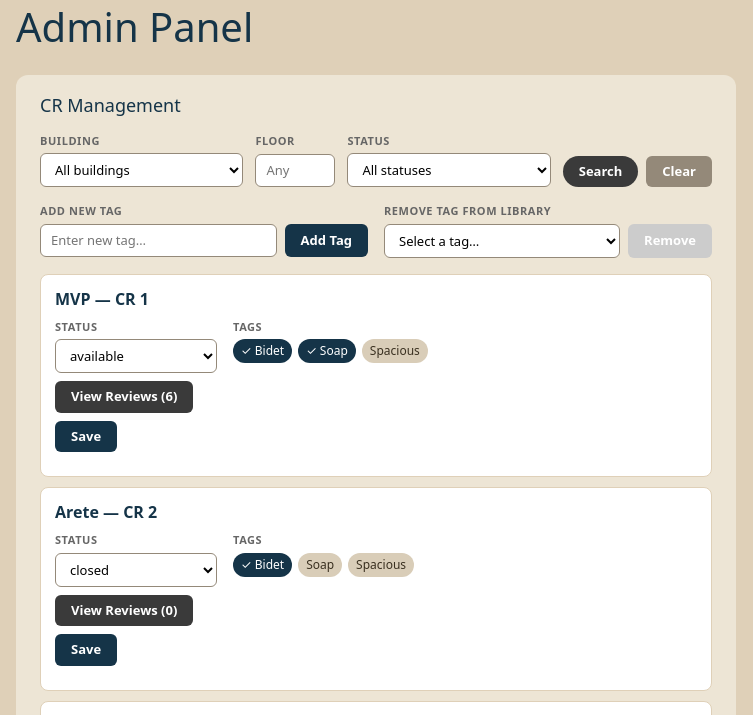
Test: CR Management — View Reviews › navigating to review page 2 shows the remaining review and hides page-1 reviews
expect the text "MVP — CR 1" is shown: met, box left=55, top=288, right=149, bottom=310
What coordinates should you click on to do the following:
click the button "View Reviews (6)"
I would click on:
 (124, 397)
Its box is left=55, top=381, right=193, bottom=413.
(page scrolled)
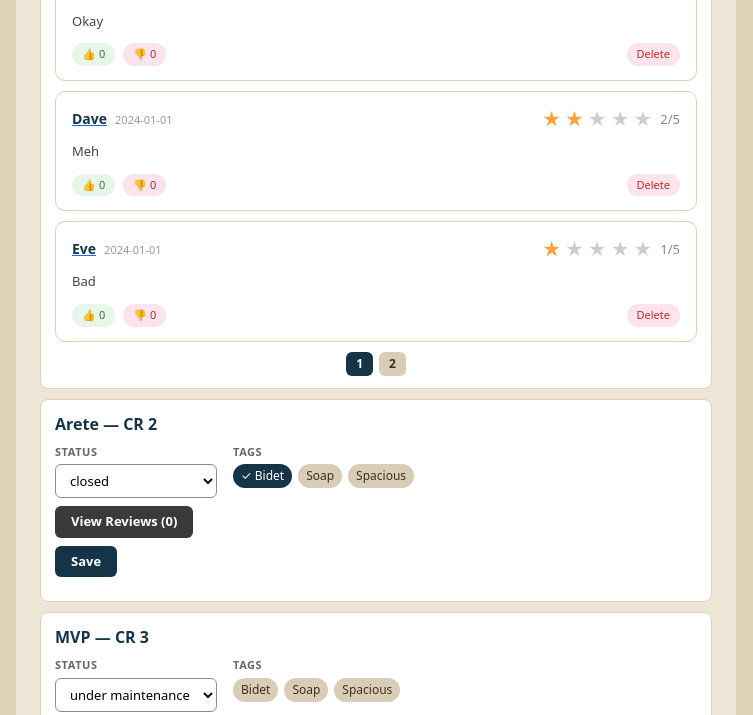
expect the button "2" is shown: met
Go to review page 2
What coordinates should you click on to do the following:
click the button "2"
I would click on:
 (392, 364)
Its box is left=379, top=352, right=406, bottom=376.
(page scrolled)
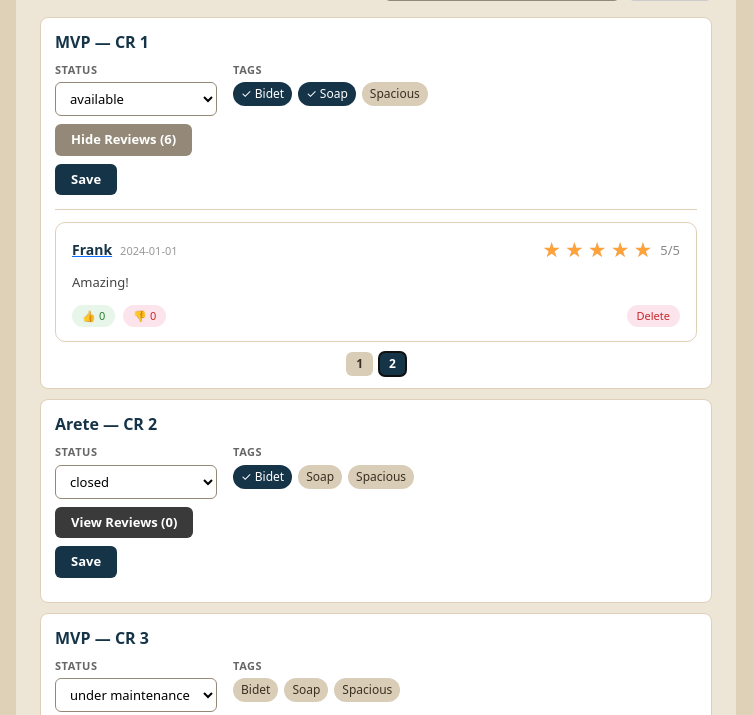
expect the text "Frank" is shown: met, box left=72, top=240, right=112, bottom=259
